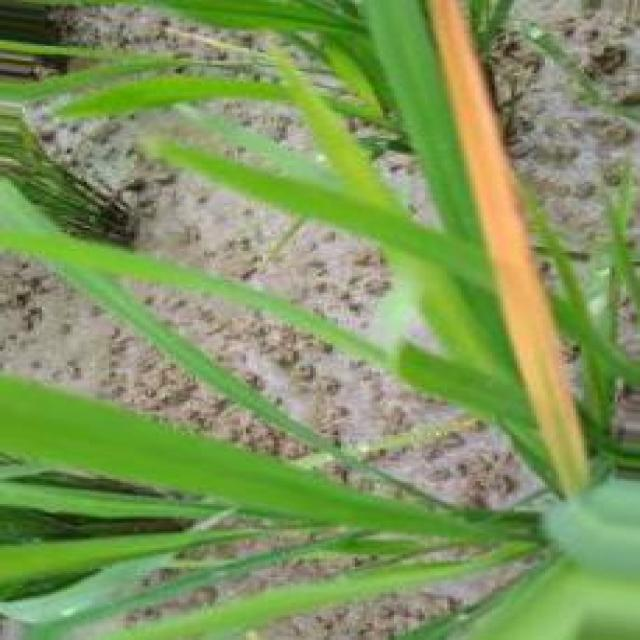Rice Tungro: (428, 0, 588, 496)
